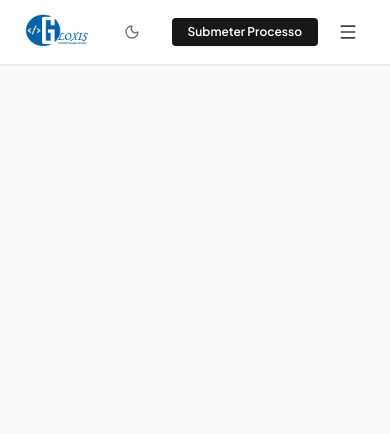
Navbar Component › toggles mobile navigation drawer
The width and height of the screenshot is (390, 434).
What coordinates should you click on to do the following:
click the button with test id "btn-mobile-toggle"
I would click on:
 (348, 32)
Its box is x1=330 y1=14 x2=366 y2=50.
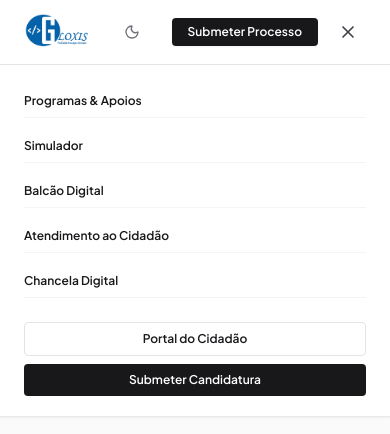
Now the element with test id "mobile-drawer" is shown
